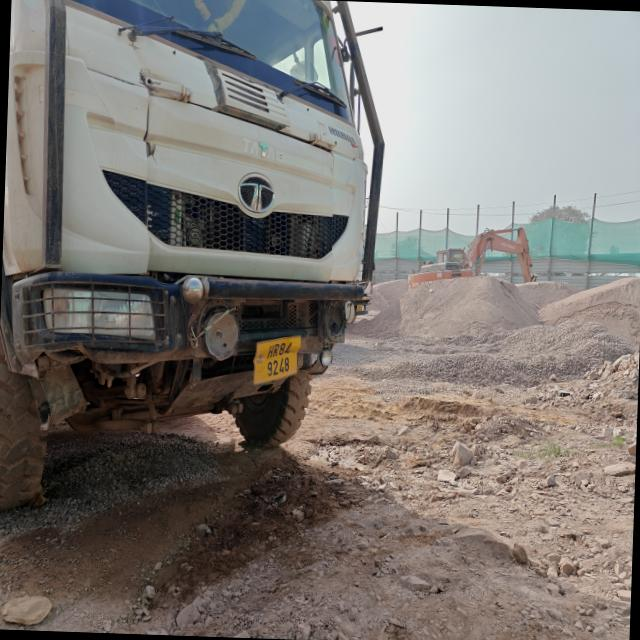license_plate: (254, 337, 301, 383), (356, 305, 363, 312)
